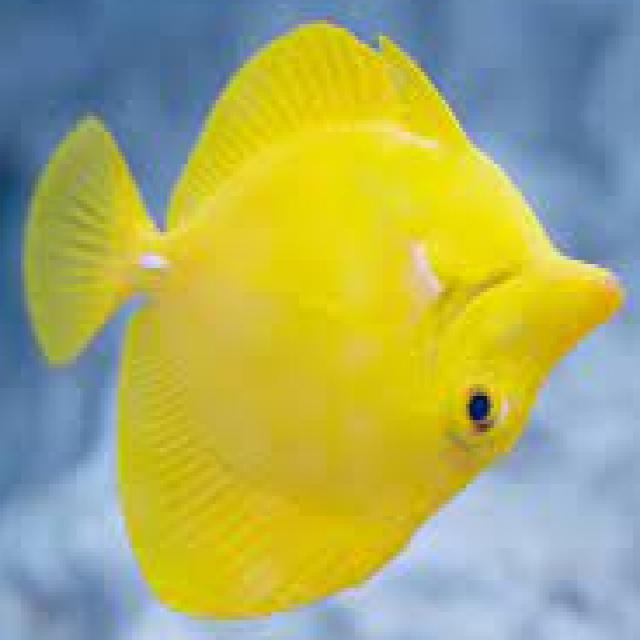fish: (3, 0, 640, 636)
